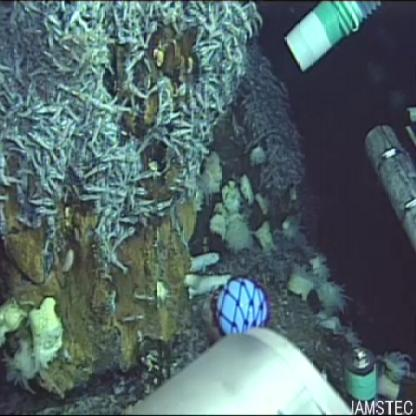Bio: (1, 1, 259, 229), (176, 249, 232, 298)
Rov: (129, 276, 354, 416), (281, 1, 388, 76)
